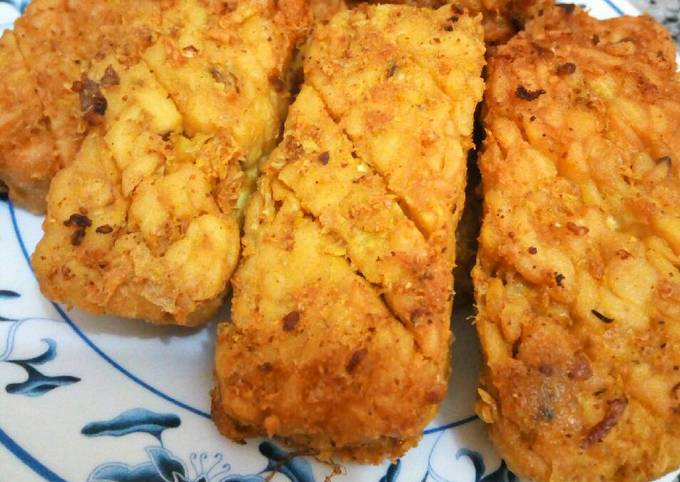Tempe: (240, 21, 462, 435), (477, 29, 672, 467), (57, 40, 235, 323)
